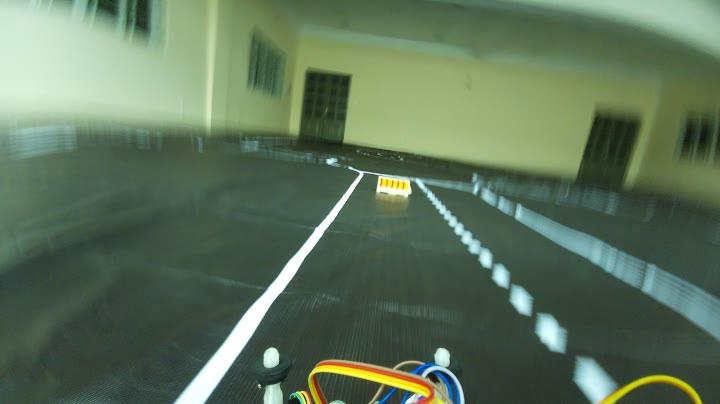roadblock: (374, 172, 414, 204)
